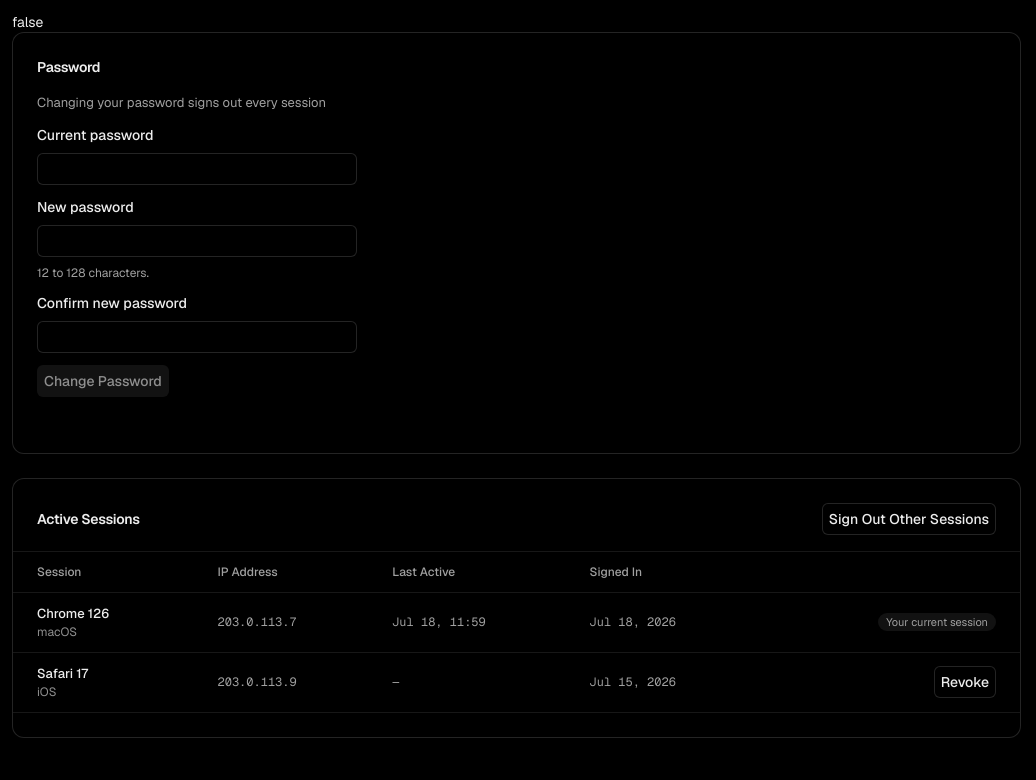
it: SecuritySettings sessions › requires a second confirming click before revoking
Click the button "Revoke": [965, 682] box [934,666,996,698]
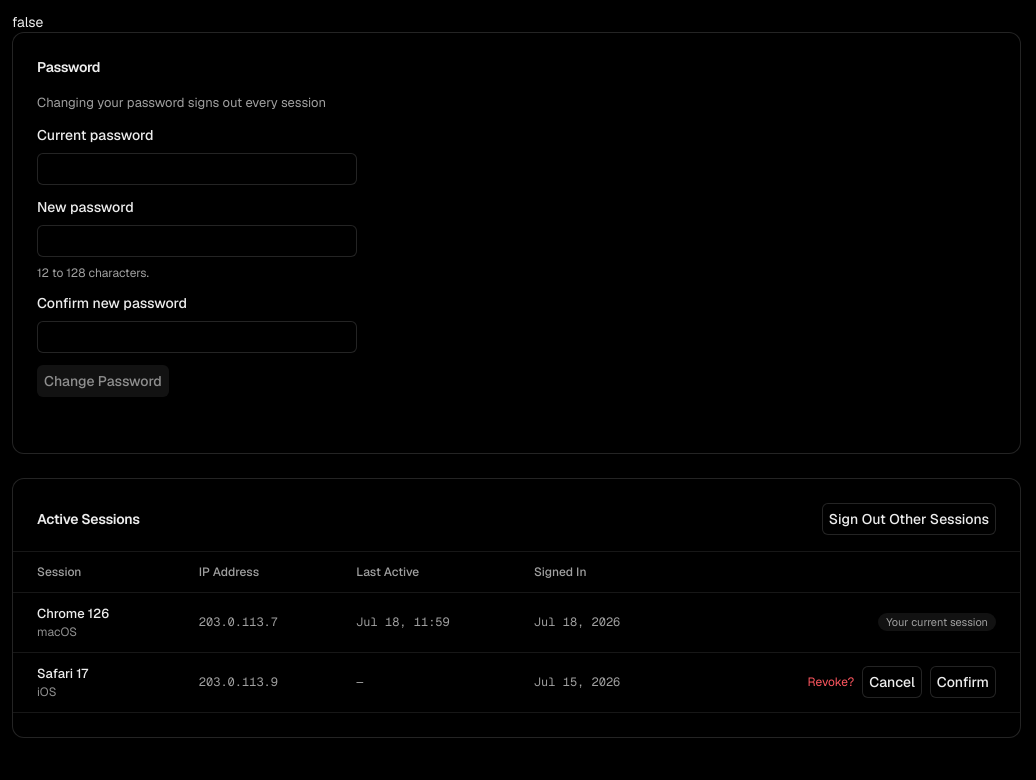
Result: the text "Revoke?" is shown at [808,674,854,690]
Click the button "Confirm": [963, 682] box [930,666,996,698]
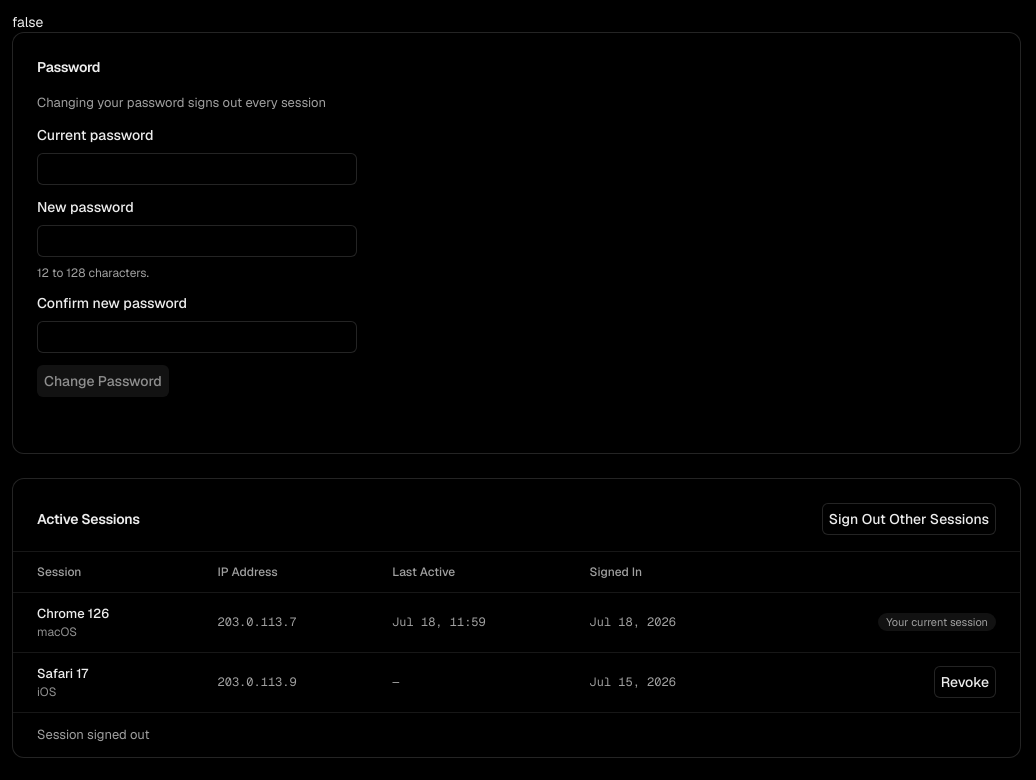
Result: the text "Session signed out" is shown at [13,712,1020,757]
